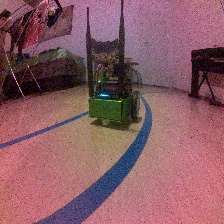rob: (87, 61, 140, 126)
